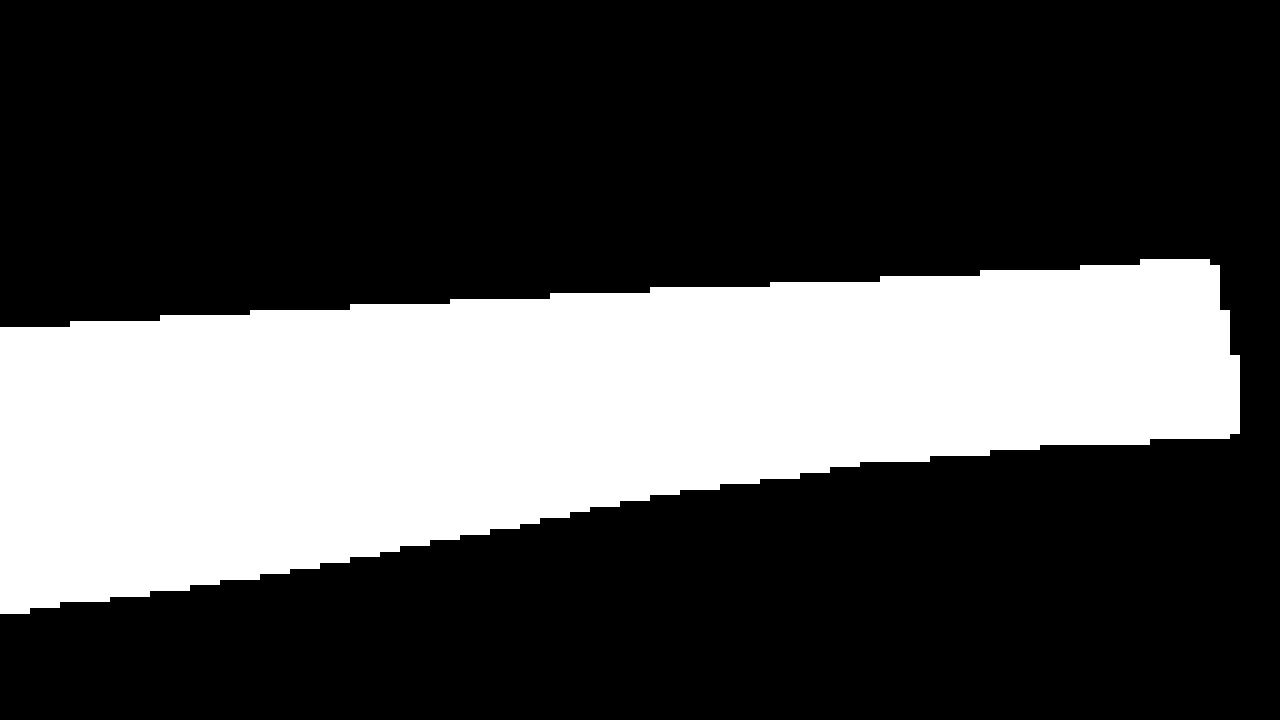Turbine: (9, 239, 1207, 610)
